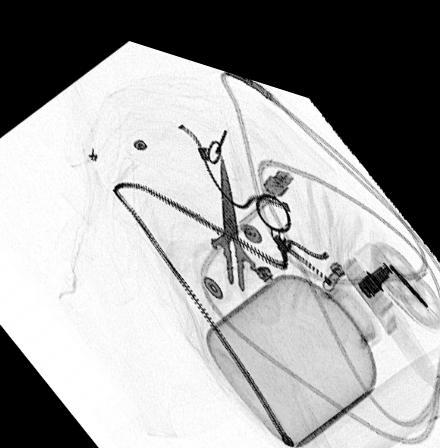Scissors: (189, 135, 285, 313)
